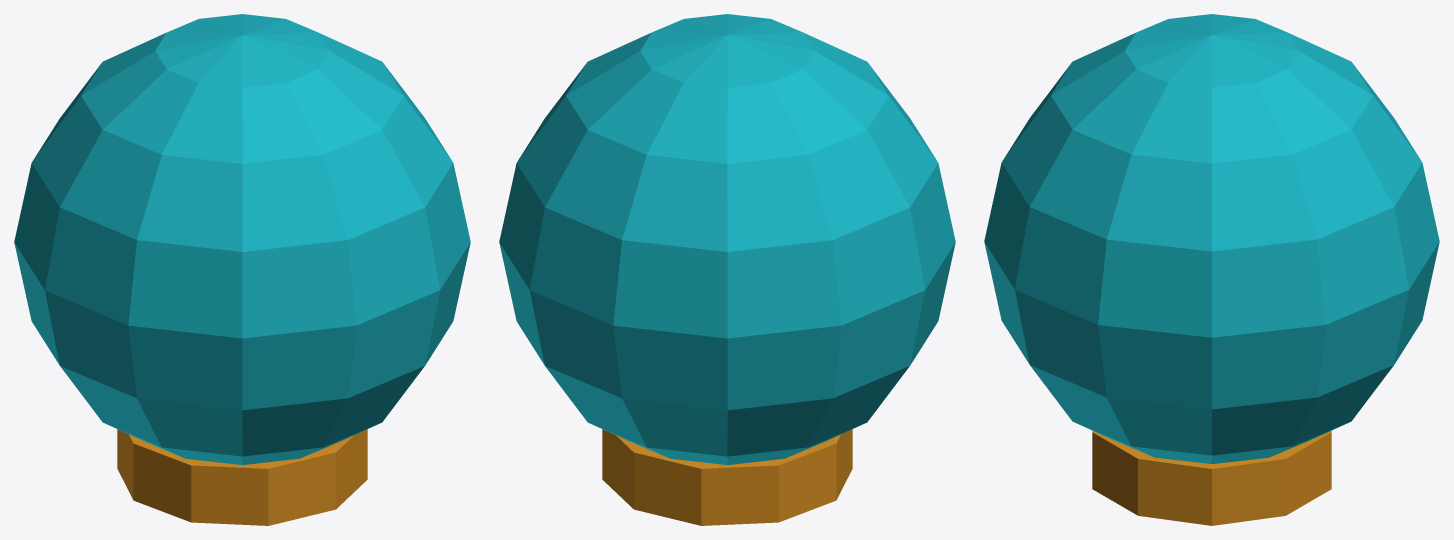
Rendered from world_ball_v1.obj.
3 renders of one model, left to right at view 1: azimuth 30°, elevation 25°; view 2: azimuth 150°, elevation 25°; view 3: azimuth 270°, elevation 25°, orthographic.
Visible parts, largest first — view 1: world_ball_v1; view 2: world_ball_v1; view 3: world_ball_v1.
Boxes of the visible parts, <box> form: world_ball_v1: <box>14,14,470,525</box>; world_ball_v1: <box>499,14,955,525</box>; world_ball_v1: <box>984,14,1439,525</box>.
Size of the model in its own units: 1.16 by 1.23 by 1.16.
